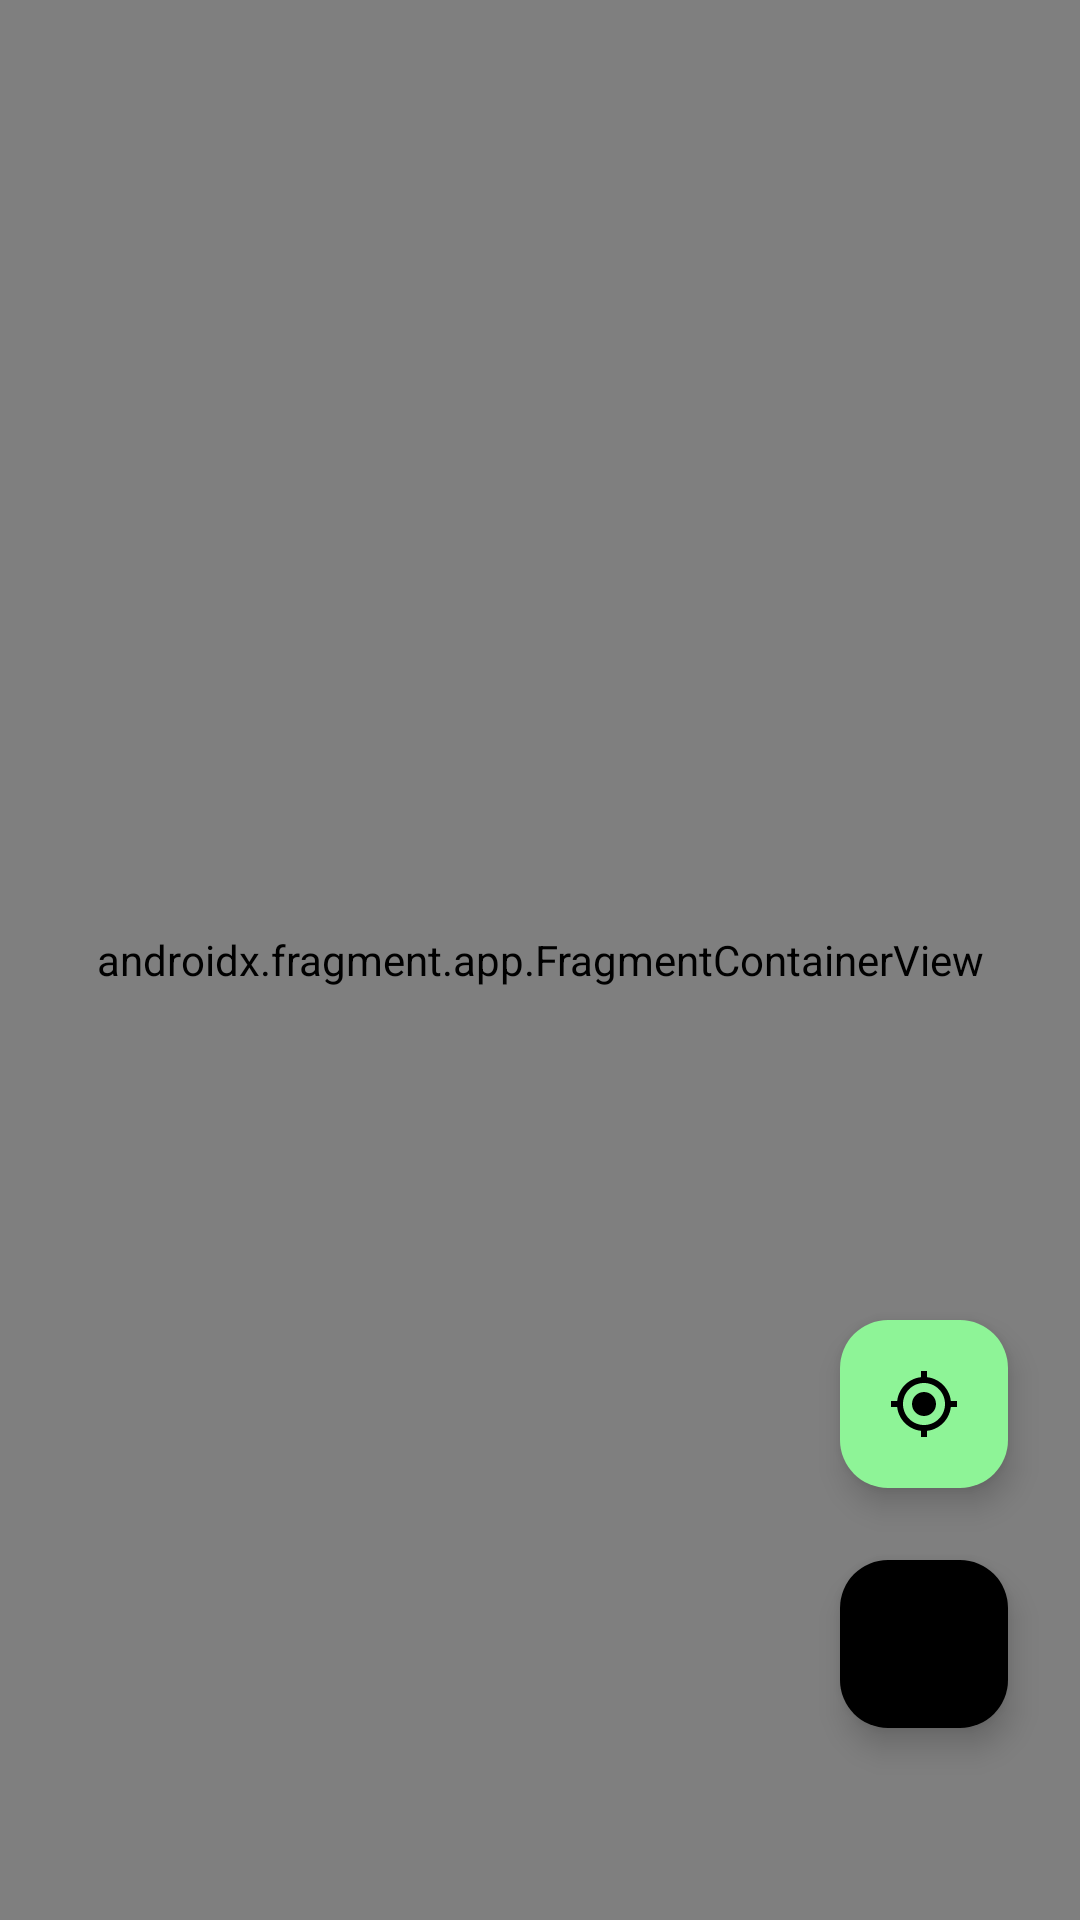

Where to tap for icons on this 1080x1920 app screen, as [x,y]:
location: [924,1404]
